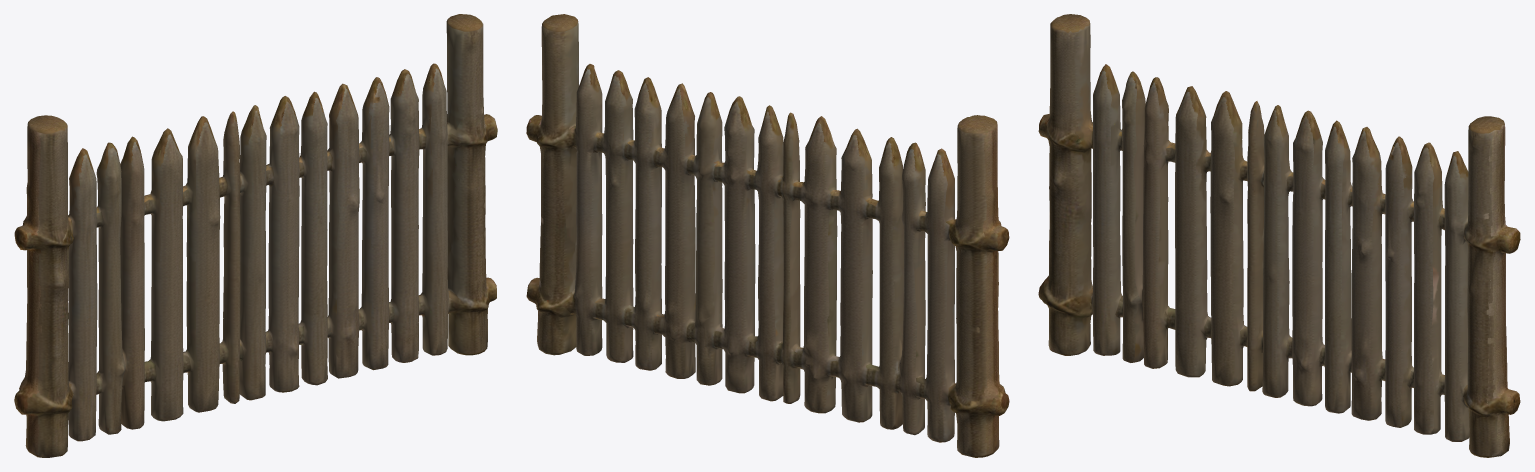
The model's file is empalizada.glb.
3 renders of one model, left to right at view 1: azimuth 30°, elevation 25°; view 2: azimuth 150°, elevation 25°; view 3: azimuth 330°, elevation 25°, orthographic.
Parts seen in each view (by area): view 1: temp_mesh.ply; view 2: temp_mesh.ply; view 3: temp_mesh.ply.
Boxes of the visible parts, bbox=[...] form: temp_mesh.ply: bbox=[14, 14, 497, 457]; temp_mesh.ply: bbox=[526, 14, 1009, 457]; temp_mesh.ply: bbox=[1038, 14, 1520, 457].
Bounding box in the file's own units: 3 × 1.97 × 0.3277.
1 material, 1 textured.
